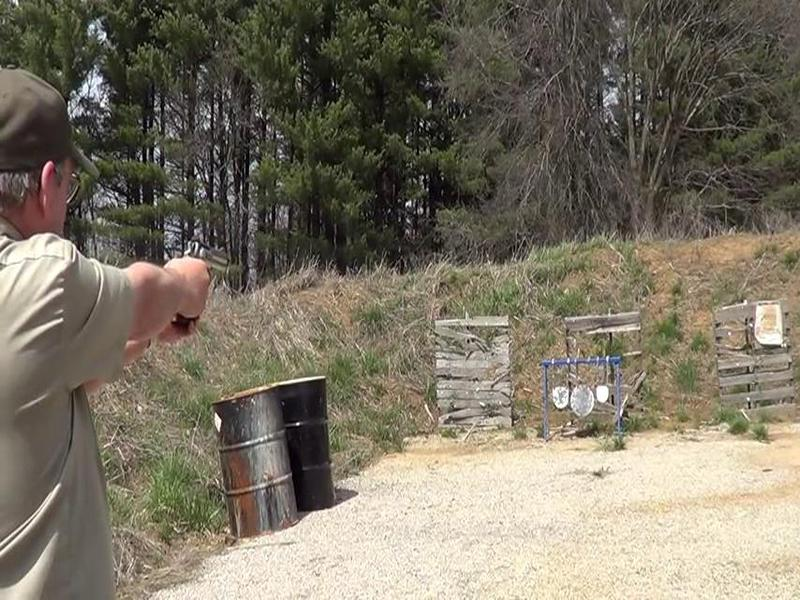Revolver: (156, 234, 239, 291)
